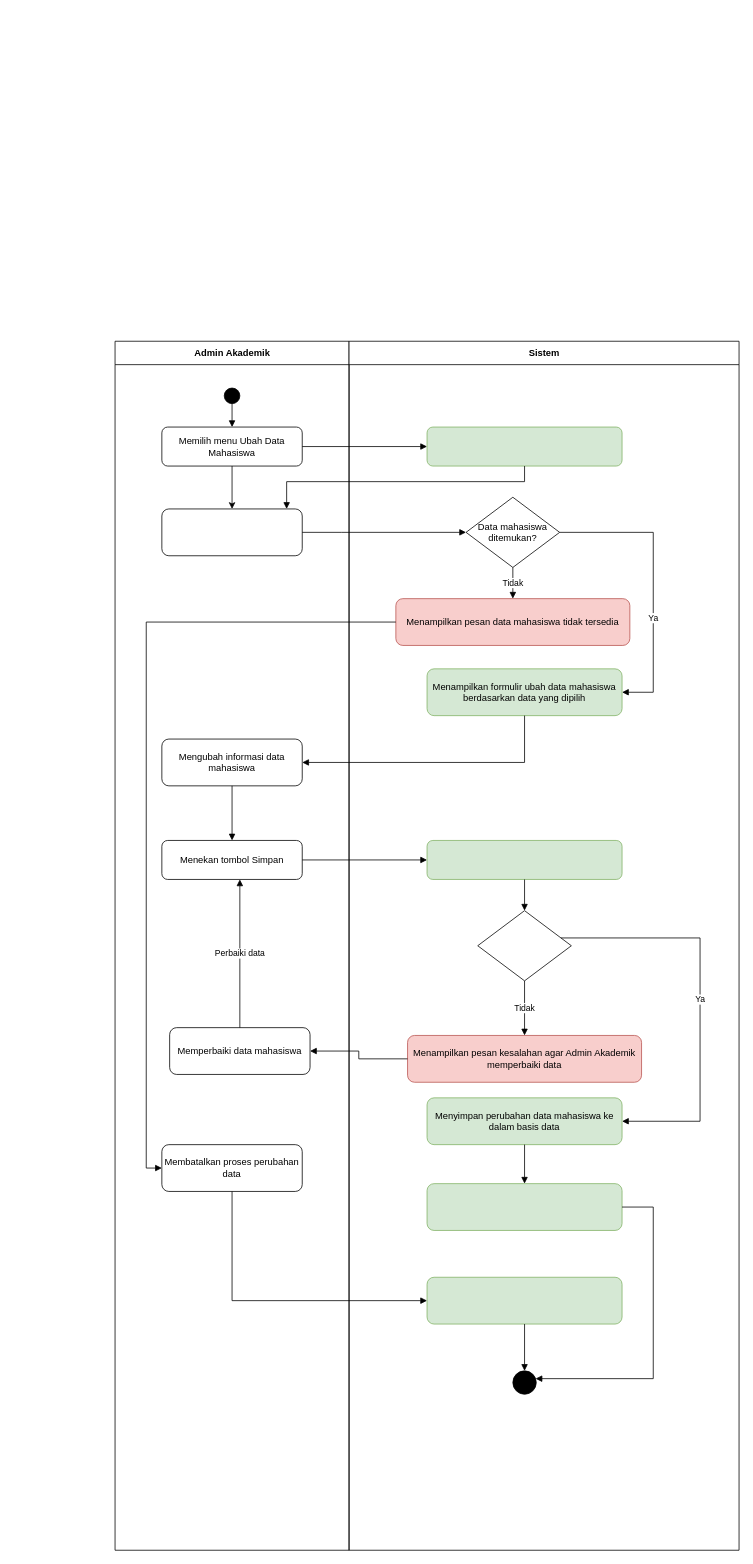
Image size: 753x1564. Some labels were removed from this diagram. Each missing label, with the box of its shape:
Data valid?: (477, 910, 571, 981)
Kembali ke halaman pengelolaan data mahasiswa: (426, 1276, 622, 1324)
Memilih data mahasiswa yang akan diubah: (161, 508, 302, 556)
Memvalidasi data mahasiswa yang telah diubah: (426, 840, 622, 879)
Menampilkan daftar data mahasiswa: (426, 426, 622, 466)
Menampilkan konfirmasi data mahasiswa berhasil diubah: (426, 1183, 622, 1230)
